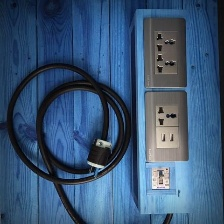three_eye_plug: (140, 14, 189, 88), (143, 90, 191, 162)
